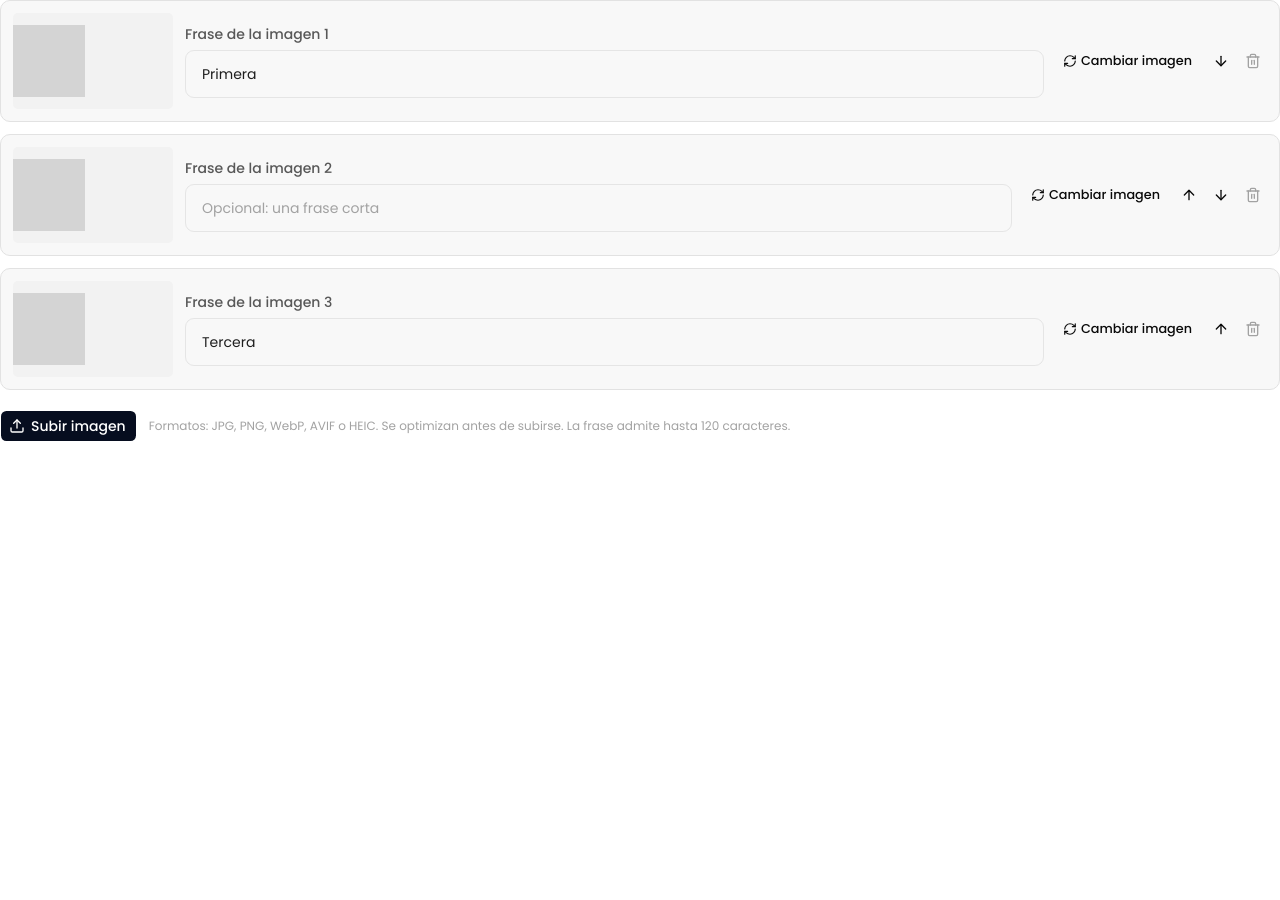
Scenario: removing › shows the reason when the server refuses
This screenshot has width=1280, height=900.
Click the button named "Quitar la imagen 2": (1253,195) [1239,181,1267,209]
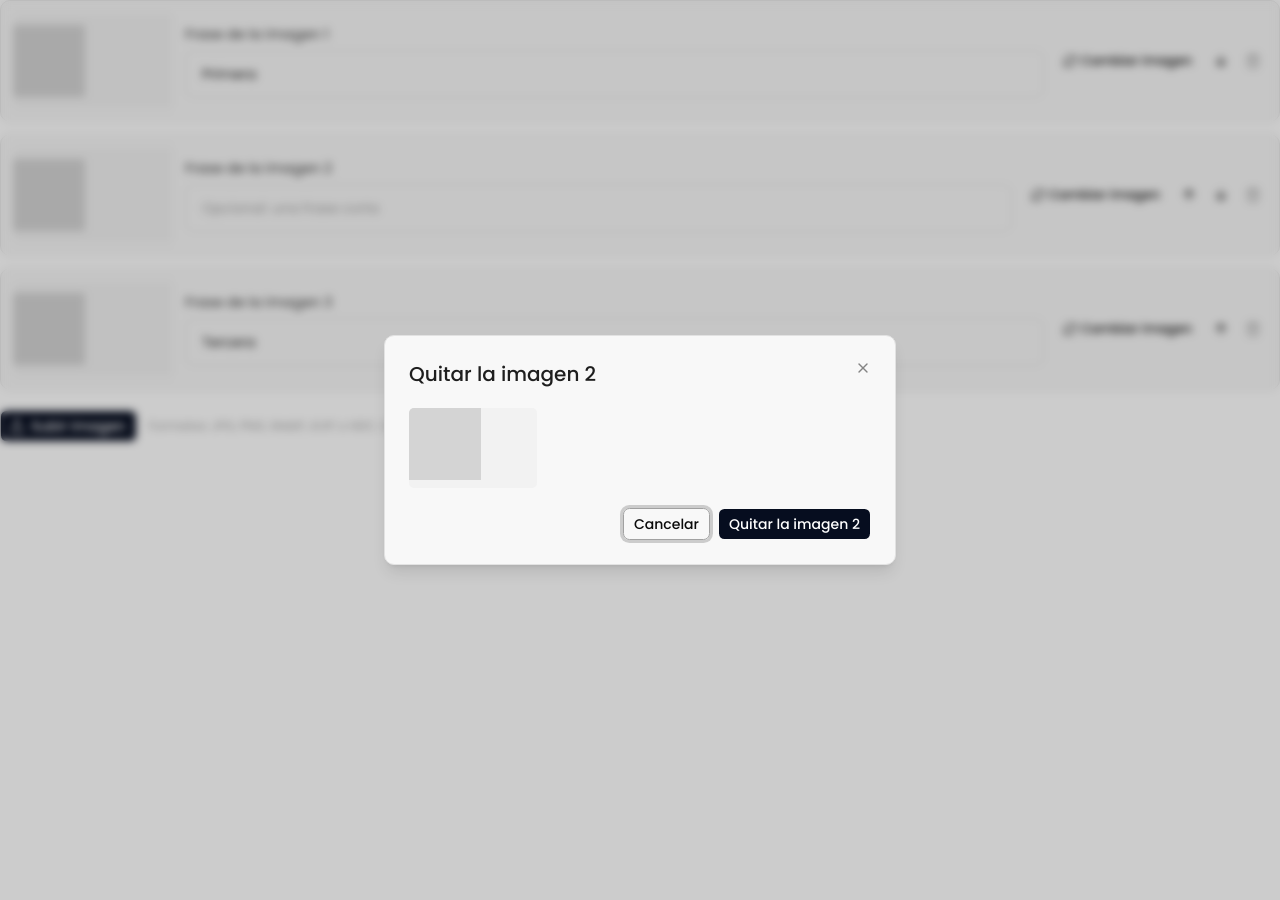
Click the button "Quitar la imagen 2": (794,524) [718,508,871,540]
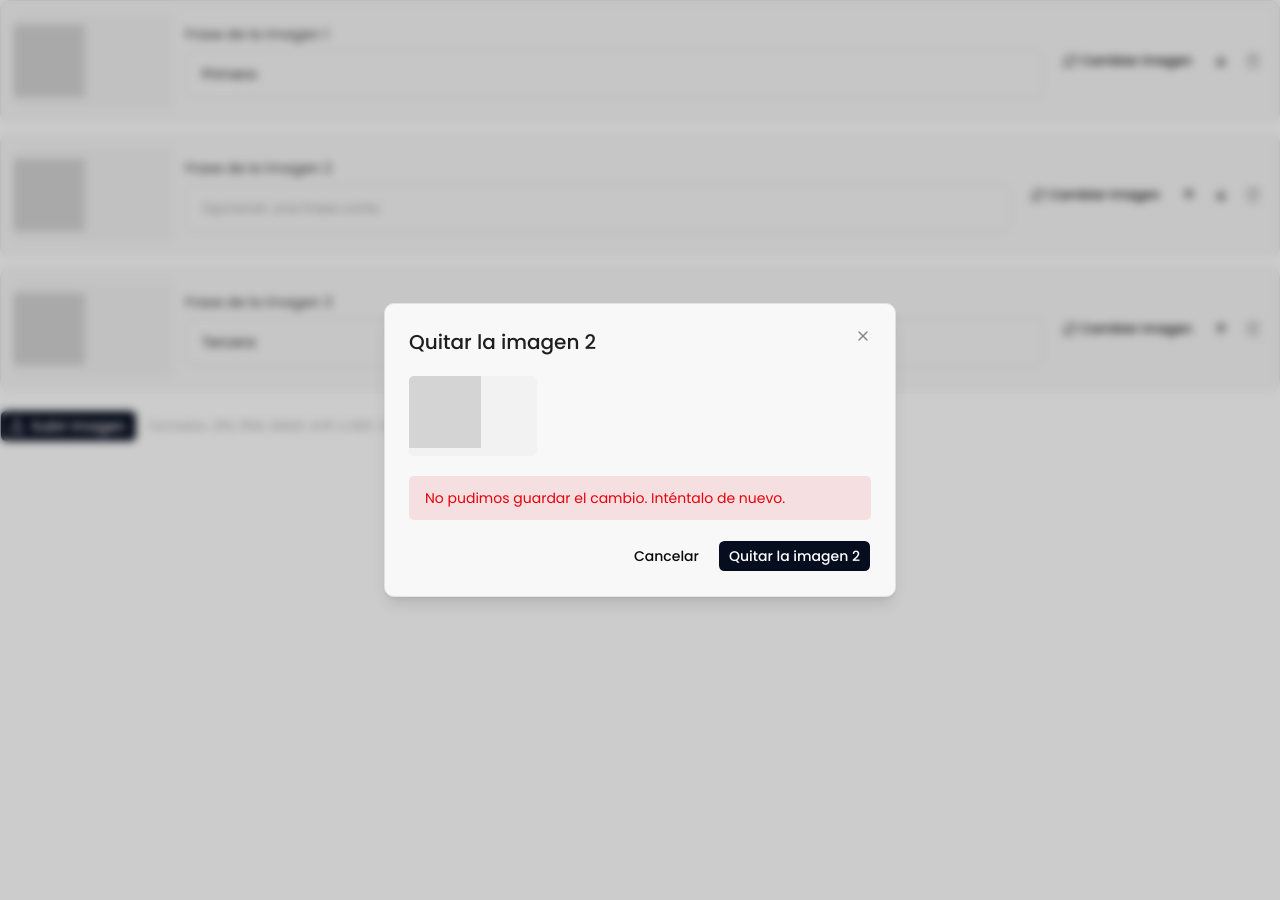
Result: the message reads "No pudimos guardar el cambio. Inténtalo de nuevo." at [425,488,785,508]
